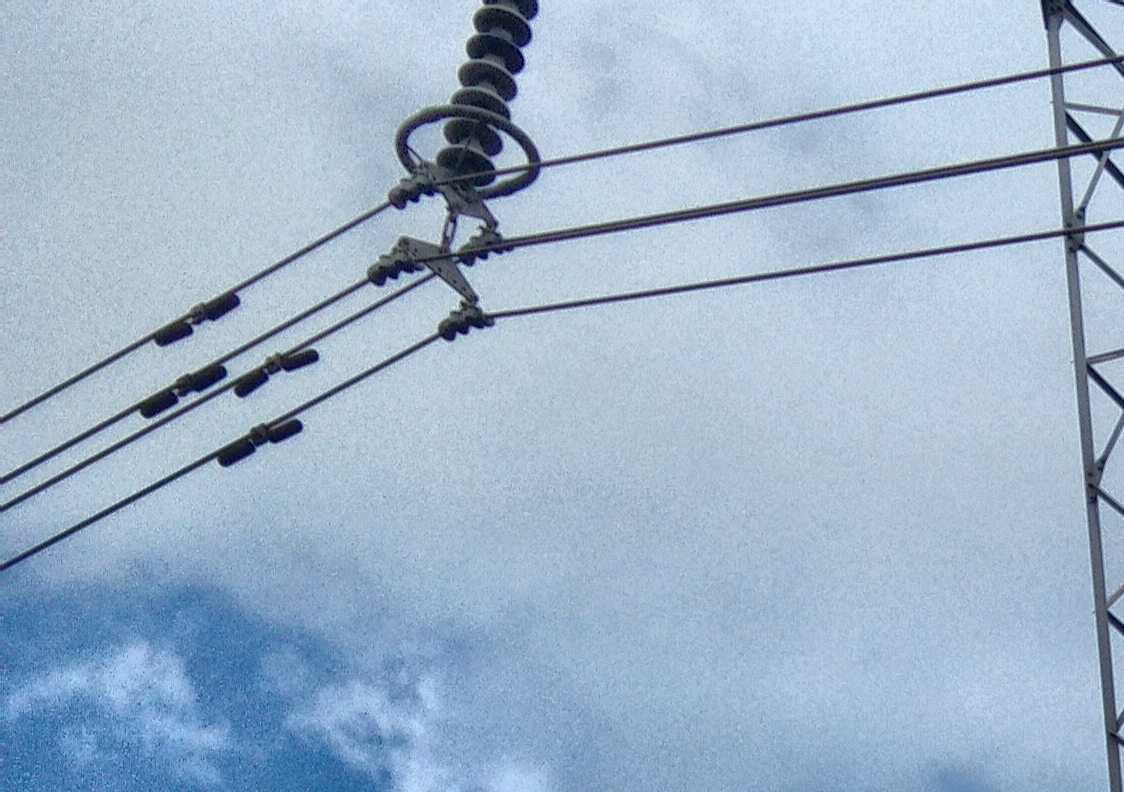damper: (134, 362, 230, 418), (149, 291, 243, 347), (231, 344, 320, 403), (211, 417, 306, 468)
